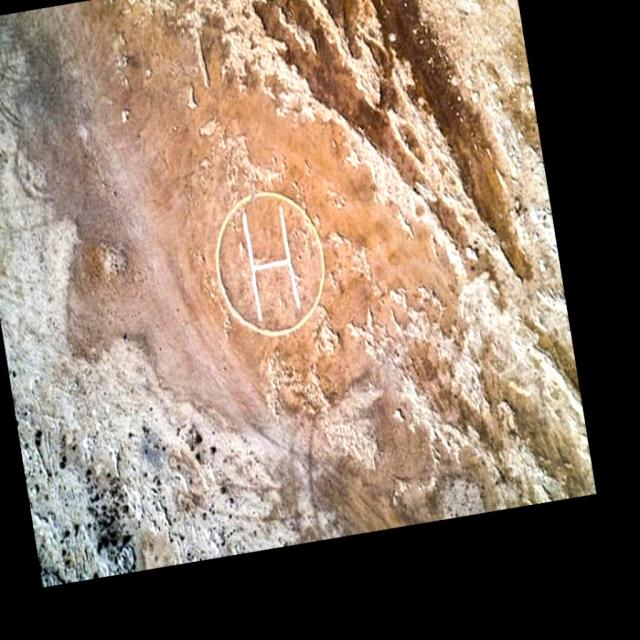helipad: (210, 187, 328, 338)
